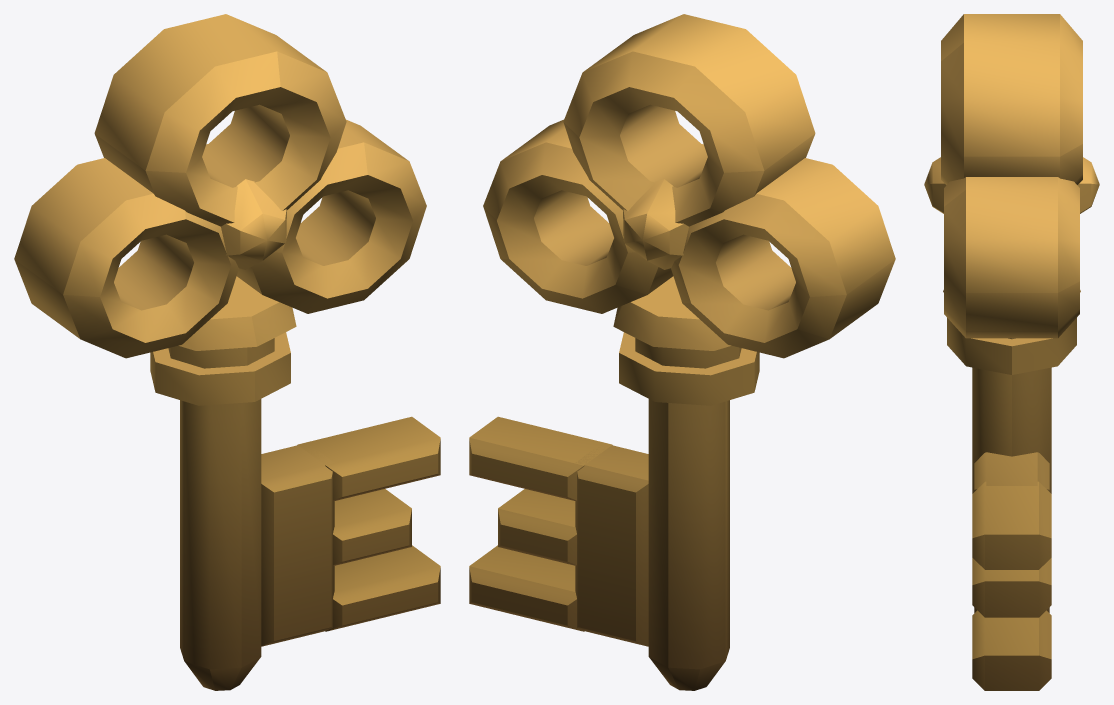
Rendered from key_bronze_ornate.glb.
3 renders of one model, left to right at view 1: azimuth 30°, elevation 25°; view 2: azimuth 150°, elevation 25°; view 3: azimuth 270°, elevation 25°, orthographic. The views are drawn at different scales.
Parts seen in each view (by area): view 1: Item; view 2: Item; view 3: Item.
Part boxes in pixels (x1,y1,x2,y2): Item: [14, 14, 440, 690]; Item: [469, 14, 895, 690]; Item: [924, 14, 1099, 690].
Size of the model in its own units: 0.48 by 0.76 by 0.2.
1 material, 1 textured.
